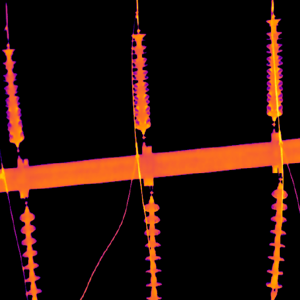insulator: (264, 186, 289, 300), (0, 43, 25, 147), (17, 207, 43, 300), (142, 199, 163, 300), (264, 16, 284, 121), (130, 31, 151, 130)
